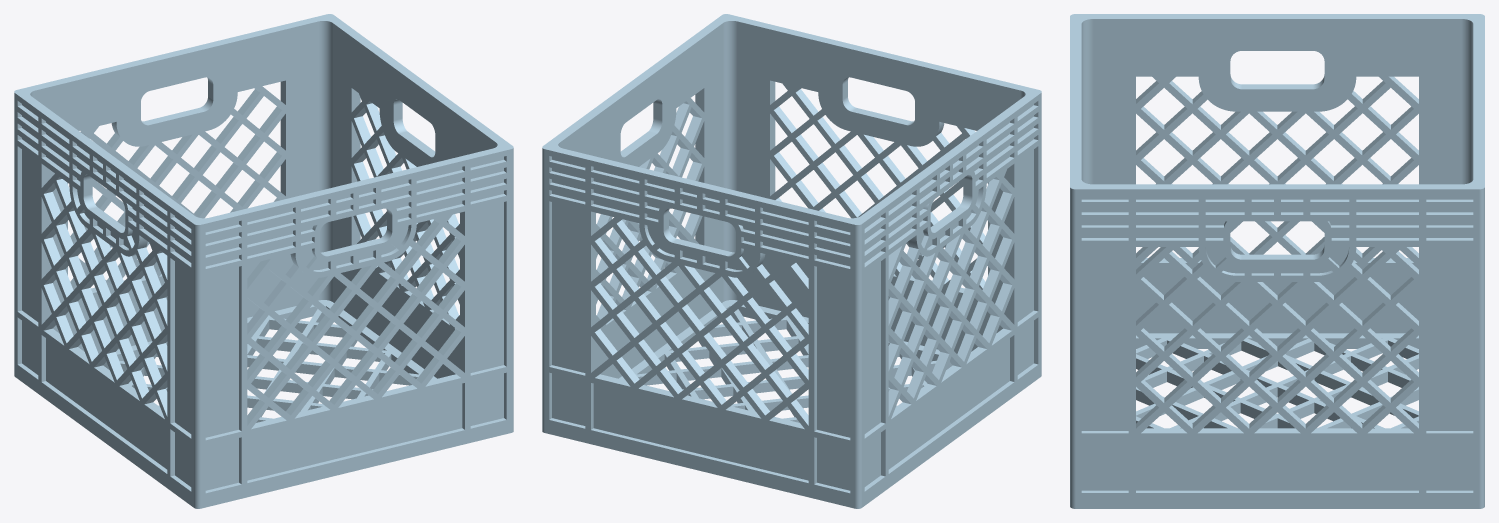
Rendered from MilkCrate.dae.
The picture shows the model from 3 angles, left to right: view 1: azimuth 30°, elevation 25°; view 2: azimuth 150°, elevation 25°; view 3: azimuth 270°, elevation 25°; orthographic projection. The views are drawn at different scales.
Parts seen in each view (by area): view 1: MilkCrate; view 2: MilkCrate; view 3: MilkCrate.
Boxes of the visible parts, x1,y1,x2,y2 form: MilkCrate: [14, 14, 513, 508]; MilkCrate: [542, 14, 1041, 508]; MilkCrate: [1070, 14, 1484, 508].
Bounding box in the file's own units: 0.353 × 0.353 × 0.305.
